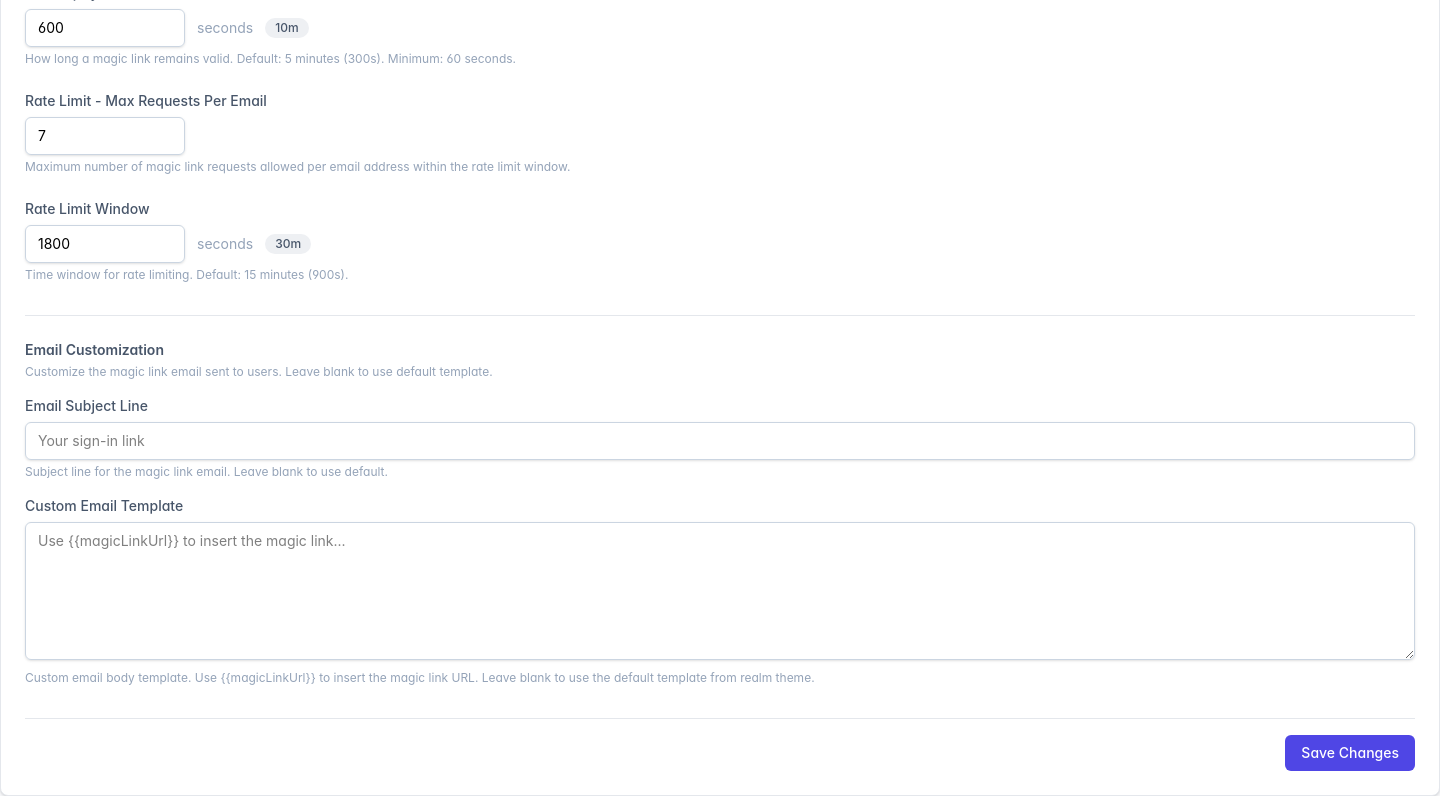
Test: MagicLinkSettingsForm › submits only the magic-link fields and shows a success banner
(page scrolled)
Click the button "Save Changes".
click(1350, 753)  # box [1285,735,1415,771]
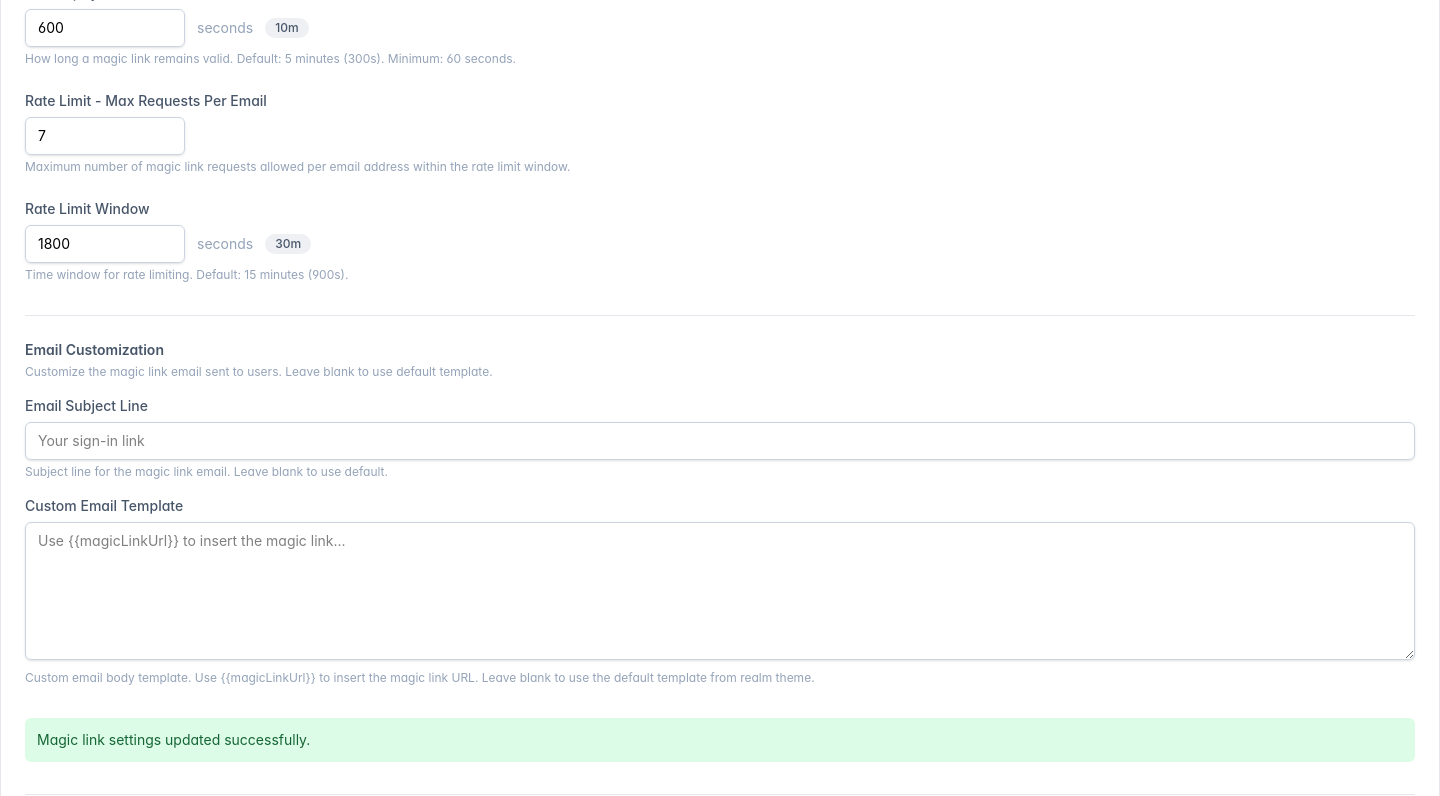
Expected: the text "Magic link settings updated successfully." is shown, [25,718,1415,762]
